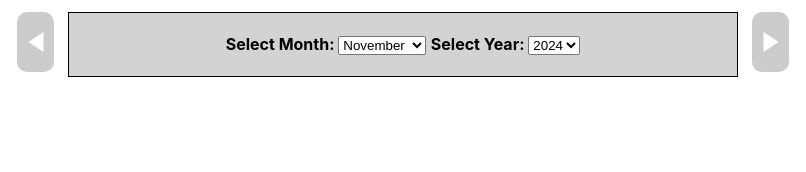
Test: MonthChangeButton Compoenent Tests › leftbutton click decreases display and dropdown value
This screenshot has width=806, height=172.
Check: the dropdown with test id "month-select" shows "November", box [338,36,426,55]
Check: the dropdown with test id "year-select" shows "2024", box [528,36,580,55]
Click the button named "decrease month".
click(36, 42)  # box [16,12,54,72]
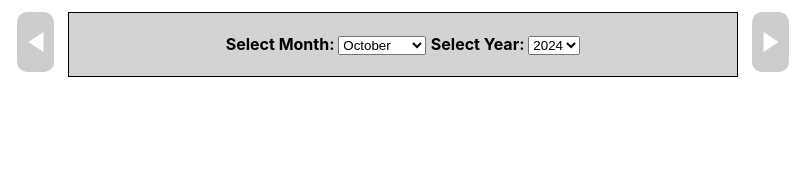
Check: the dropdown with test id "year-select" shows "2024", box [528,36,580,55]
Check: the dropdown with test id "month-select" shows "October", box [338,36,426,55]
